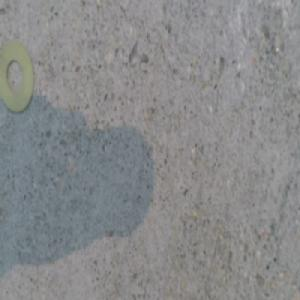Washer: (1, 43, 33, 115)
